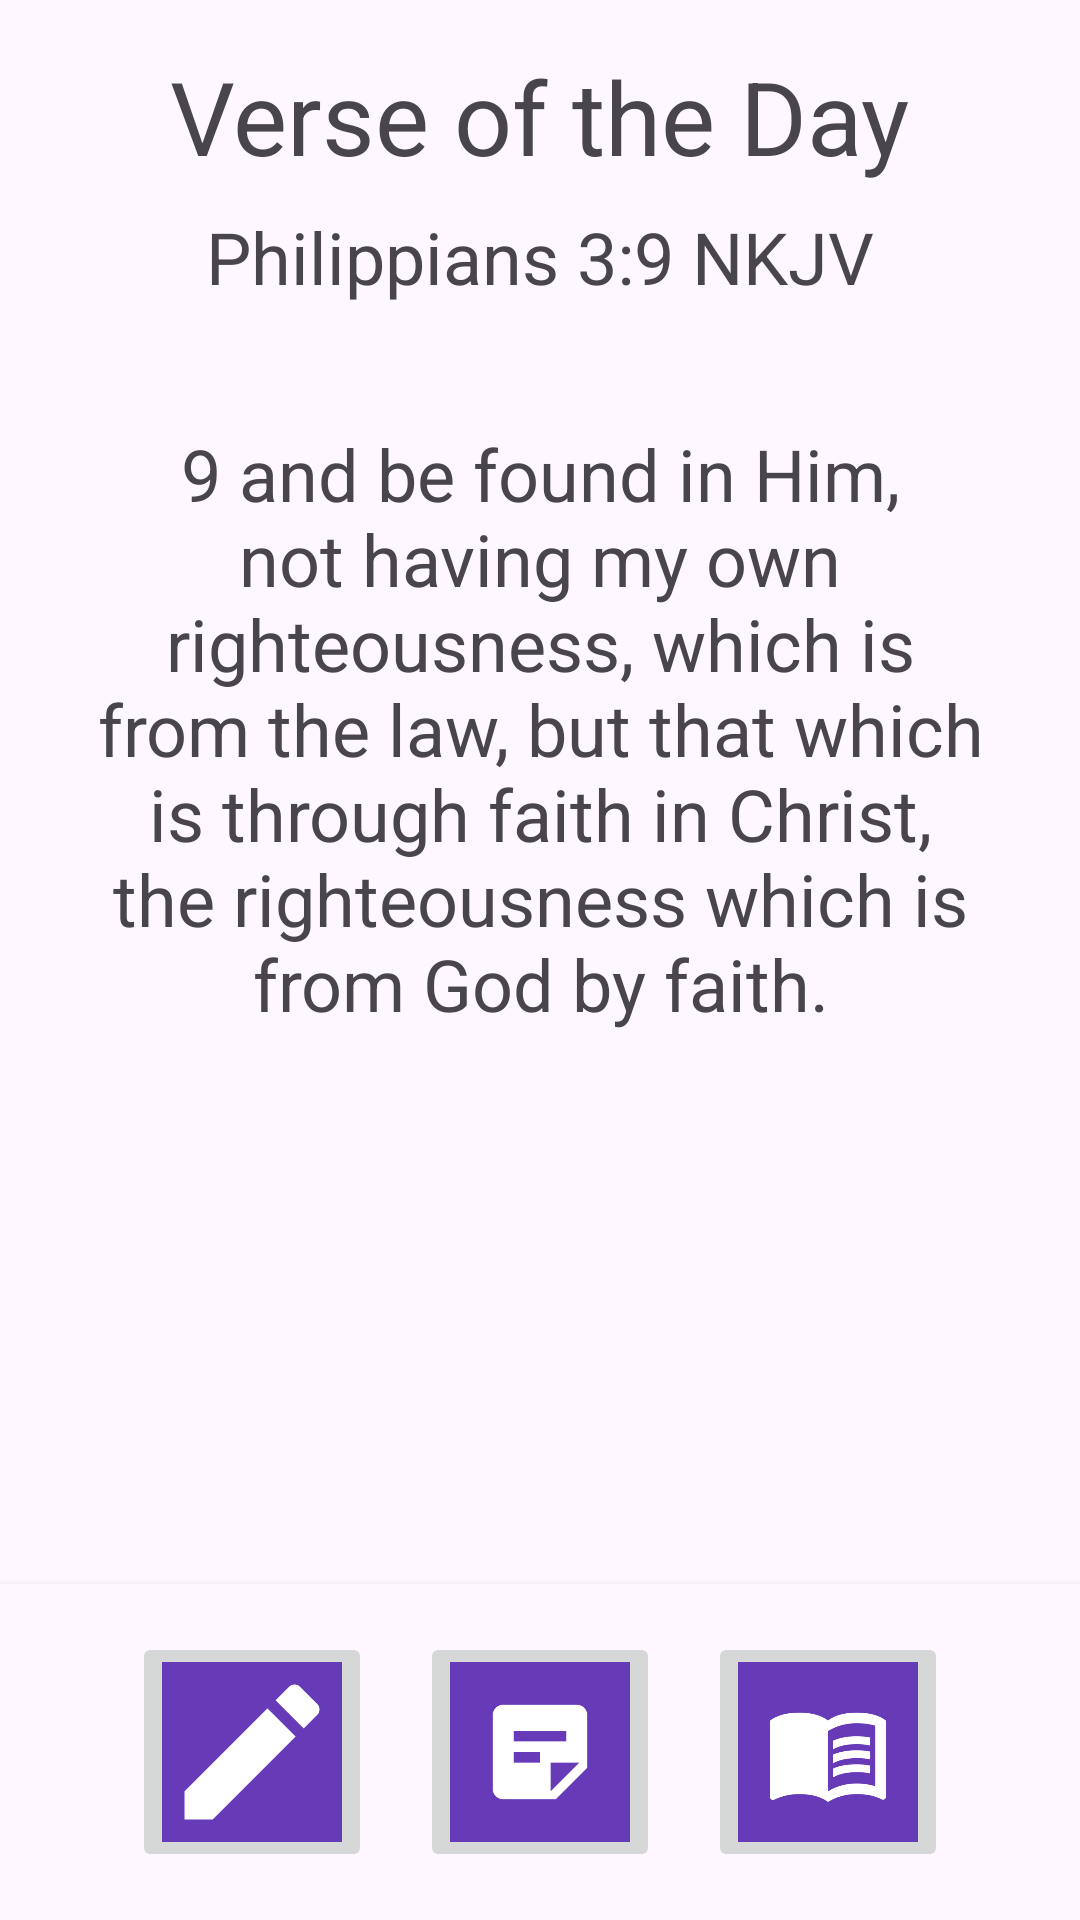

Point at icon controls on the screen. Image size 1080*1920, points as point (x, y).
New Note: point (252, 1752)
View Chapter: point (828, 1752)
View Notes: point (540, 1752)
